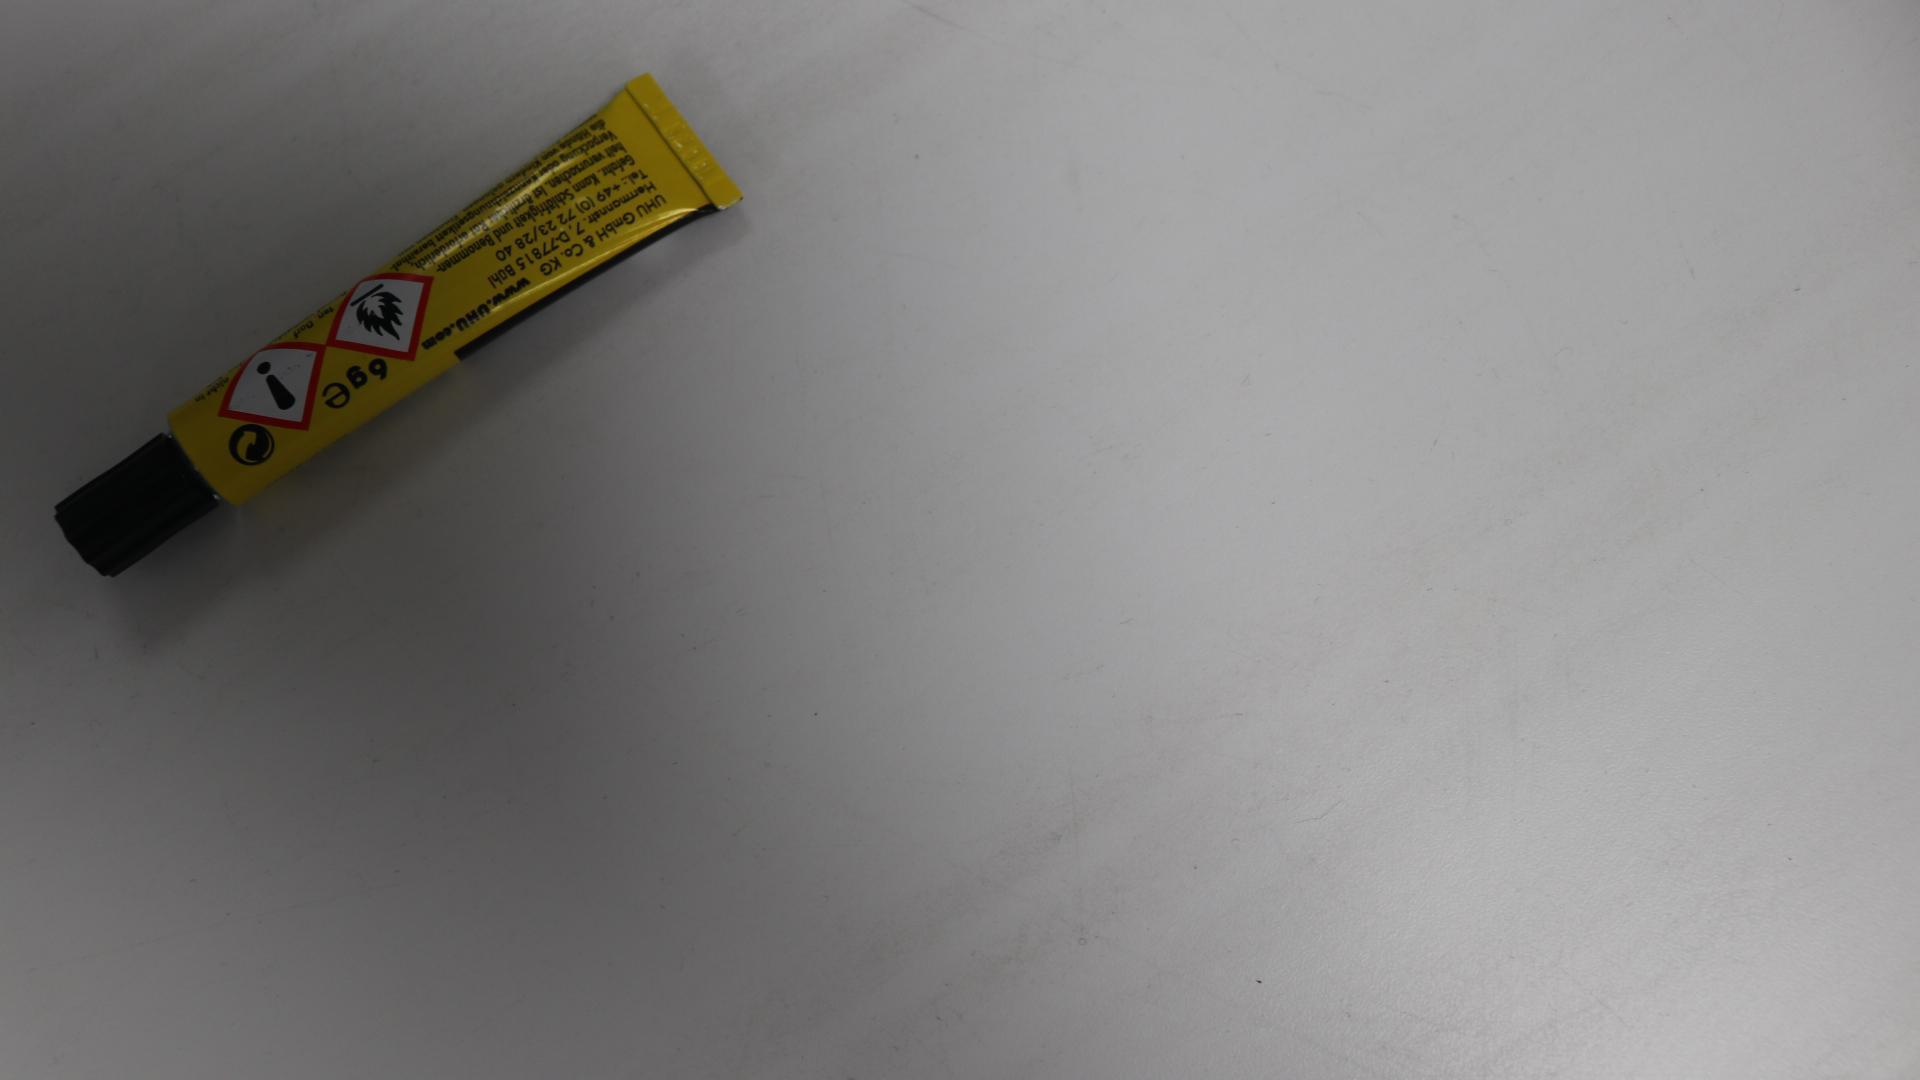Head: (125, 500, 144, 518)
Tail: (674, 132, 689, 149)
Tube: (52, 70, 746, 575)
